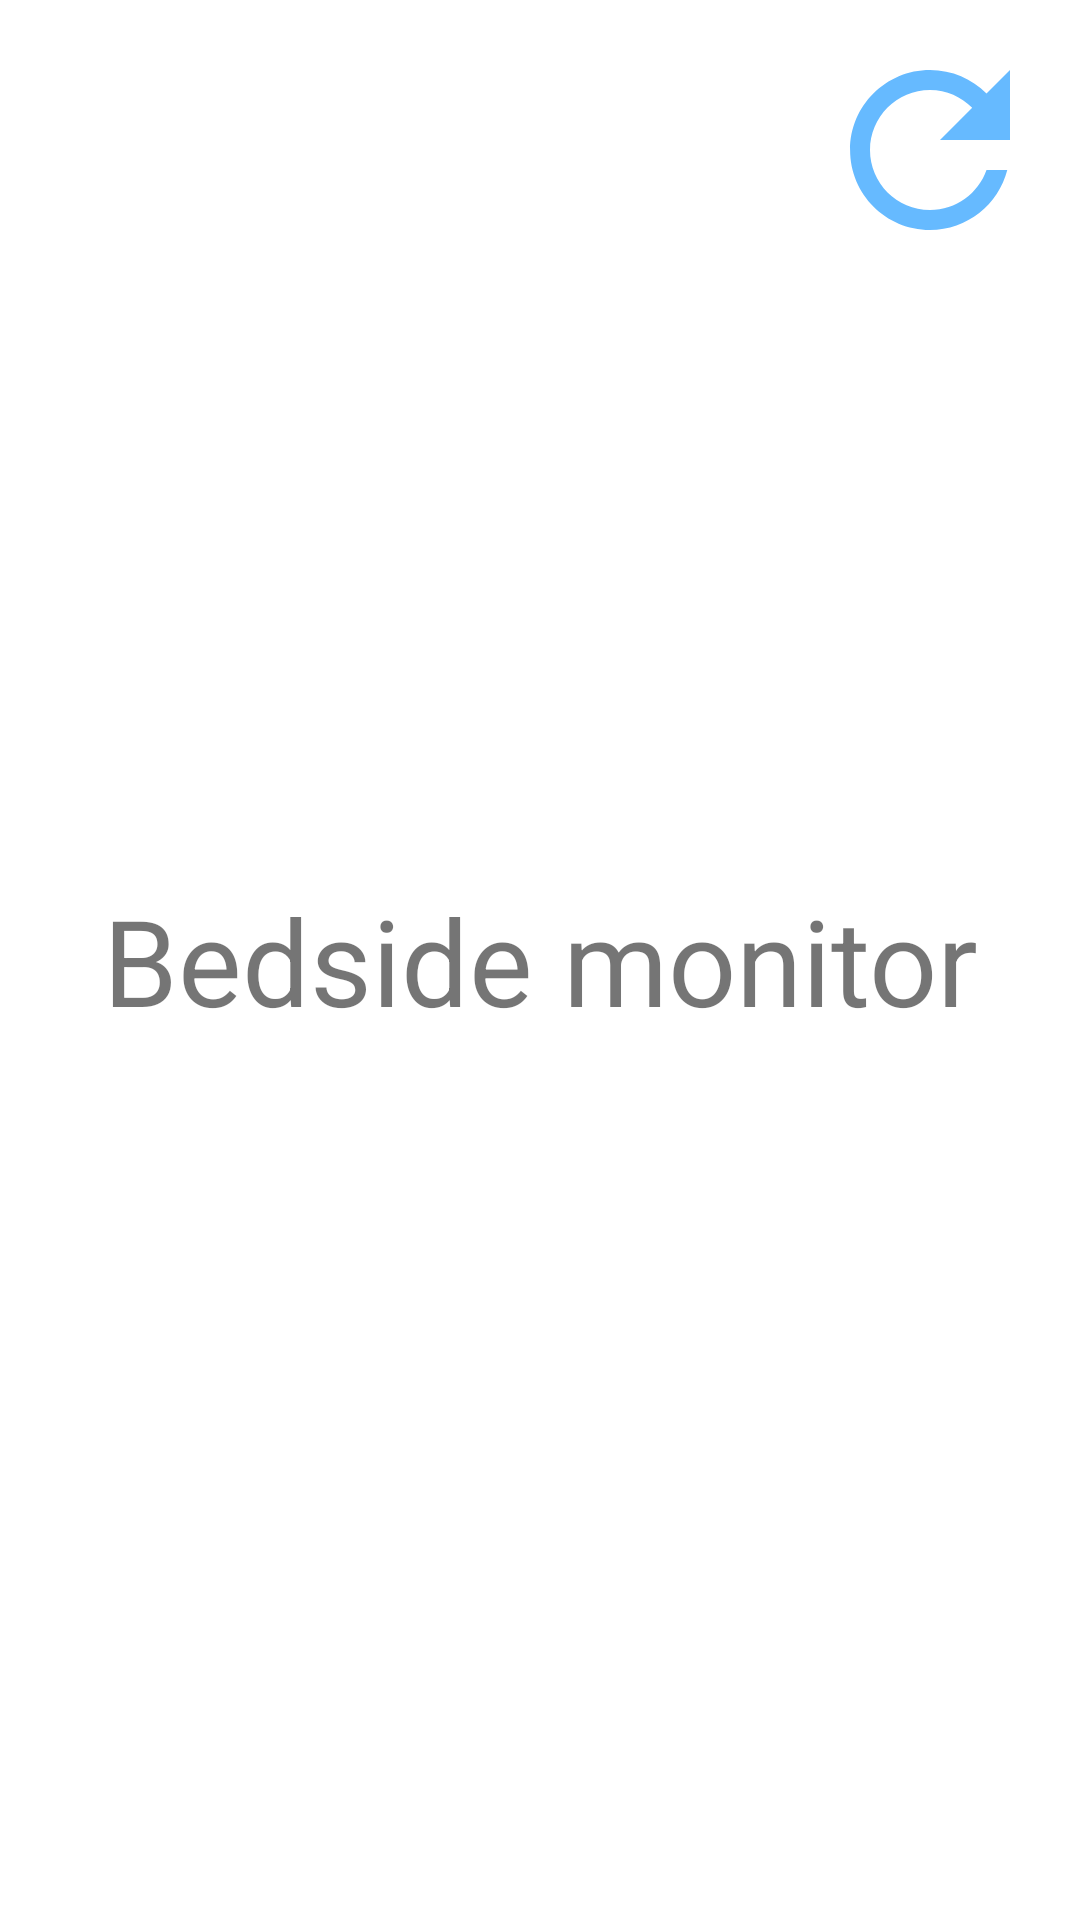

Icons on this 1080 x 1920 Android screen, each with its box as bbox(x1, y1, x2, y2):
refresh: bbox(850, 70, 1010, 230)
